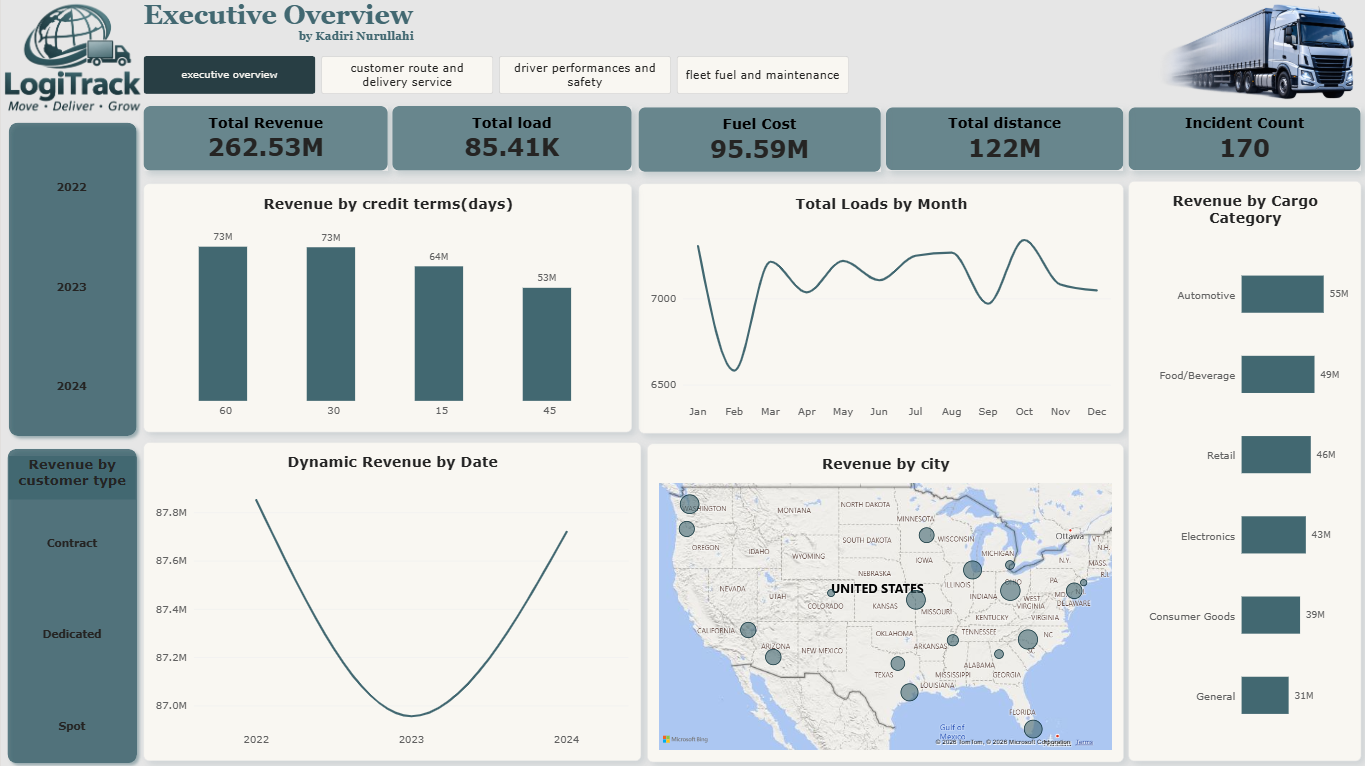

This screenshot's page, from the dashboard's own definition file:
{"tool":"powerbi","page":{"name":"executive overview","canvas":[1920,1080],"ordinal":0},"visuals":[{"type":"shape","box":[1.8,167.9,196.4,455.4],"z":0},{"type":"shape","box":[0,622.7,198.8,457],"z":1000},{"type":"cardVisual","fields":{"Data":["Sum(loads.revenue)"]},"box":[198.8,153.5,341.9,90.7],"z":2000},{"type":"cardVisual","fields":{"Data":["CountNonNull(loads.load_id)"]},"box":[545.9,153.5,334.9,90.7],"z":3000},{"type":"cardVisual","fields":{"Data":["loads.Incident Count"]},"box":[1573.6,154.5,324.4,89],"z":4000},{"type":"lineChart","title":"Dynamic Revenue by Date","fields":{"Category":["DateAxis.Label"],"Y":["loads.Dynamic Revenue by Date"]},"box":[198.8,622.7,694.2,444.8],"z":5000},{"type":"advancedSlicerVisual","fields":{"Values":["Date.Year"]},"box":[10.7,200,176.8,410.7],"z":6000},{"type":"map","title":"Revenue by city","fields":{"Category":["routes.origin_city"],"Size":["Sum(loads.revenue)"]},"box":[901.7,624.4,664.5,444.8],"z":7000},{"type":"lineChart","fields":{"Category":["Date.Month"],"Y":["loads.Total Loads"]},"box":[889.5,261.6,676.7,348.8],"z":8000},{"type":"cardVisual","fields":{"Data":["Sum(trips.actual_distance_miles)"]},"box":[1234.9,155.2,331.4,89],"z":9000},{"type":"clusteredBarChart","title":"Revenue by Cargo Category ","fields":{"Category":["customers.primary_freight_type"],"Y":["Sum(loads.revenue)"]},"box":[1573.3,258.1,324.4,809.3],"z":10000},{"type":"cardVisual","fields":{"Data":["loads.Fuel Cost"]},"box":[889.5,155.2,338.4,90.7],"z":11000},{"type":"advancedSlicerVisual","title":"Revenue by customer type ","fields":{"Label":["Sum(loads.revenue)"],"Values":["customers.customer_type"]},"box":[10.5,641.9,177.9,437.8],"z":12000},{"type":"textbox","box":[198.2,5.4,389,71.5],"z":13000},{"type":"pageNavigator","box":[198.2,83.9,985.7,53.6],"z":14000},{"type":"columnChart","title":"Revenue by credit terms(days)","fields":{"Category":["customers.credit_terms_days"],"Y":["Sum(loads.revenue)"]},"box":[198.8,261.6,682,347.1],"z":15000},{"type":"image","box":[1.8,5.4,196.4,162.5],"z":16000},{"type":"image","box":[1583.9,5.4,335,150],"z":17000}]}

Visuals, with their boxes in screenshot pixels (x1, y1, x2, y2), scaled from the page's 1920x1080 canvas onto the 1365x766 screenshot:
shape: (left=1, top=119, right=141, bottom=442)
shape: (left=0, top=442, right=141, bottom=765)
cardVisual - Sum(loads.revenue): (left=141, top=109, right=384, bottom=173)
cardVisual - CountNonNull(loads.load_id): (left=388, top=109, right=626, bottom=173)
cardVisual - loads.Incident Count: (left=1119, top=110, right=1349, bottom=173)
"Dynamic Revenue by Date" lineChart: (left=141, top=442, right=635, bottom=757)
advancedSlicerVisual - Date.Year: (left=8, top=142, right=133, bottom=433)
"Revenue by city" map: (left=641, top=443, right=1113, bottom=758)
lineChart - Date.Month x loads.Total Loads: (left=632, top=186, right=1113, bottom=433)
cardVisual - Sum(trips.actual_distance_miles): (left=878, top=110, right=1114, bottom=173)
"Revenue by Cargo Category " clusteredBarChart: (left=1119, top=183, right=1349, bottom=757)
cardVisual - loads.Fuel Cost: (left=632, top=110, right=873, bottom=174)
"Revenue by customer type " advancedSlicerVisual: (left=7, top=455, right=134, bottom=765)
textbox: (left=141, top=4, right=417, bottom=55)
pageNavigator: (left=141, top=60, right=842, bottom=98)
"Revenue by credit terms(days)" columnChart: (left=141, top=186, right=626, bottom=432)
image: (left=1, top=4, right=141, bottom=119)
image: (left=1126, top=4, right=1364, bottom=110)
